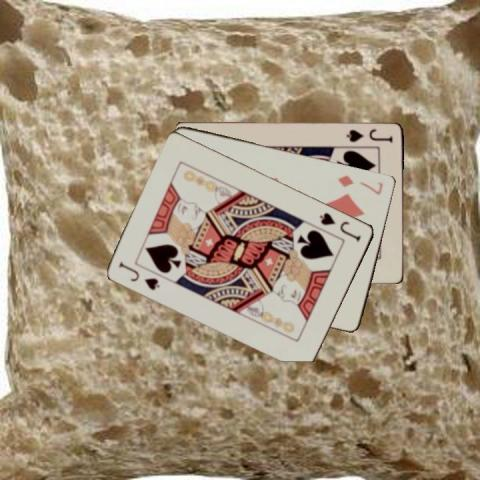7d: (334, 172, 384, 196)
Js: (316, 209, 363, 243), (115, 259, 162, 291), (343, 125, 395, 144)
